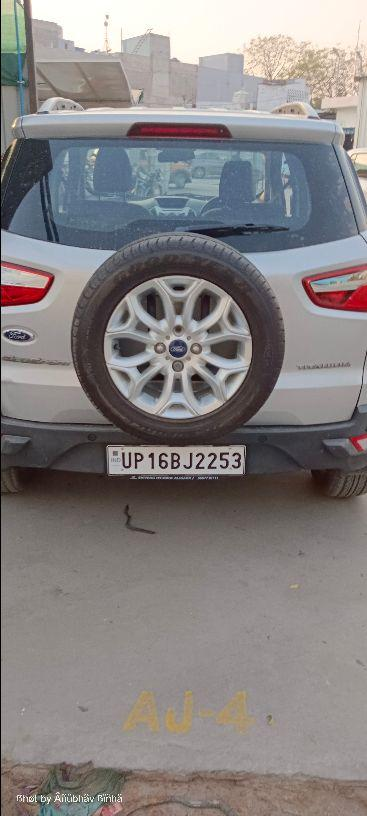license_plate: (104, 443, 246, 477)
